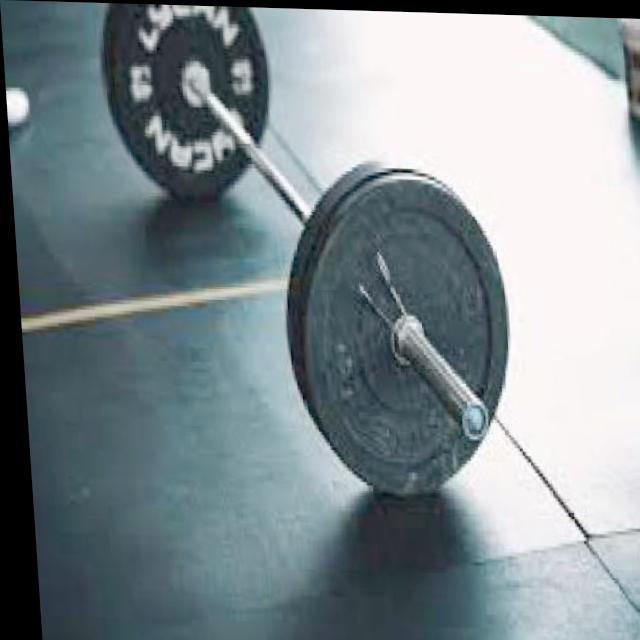barbell: (278, 165, 524, 506)
